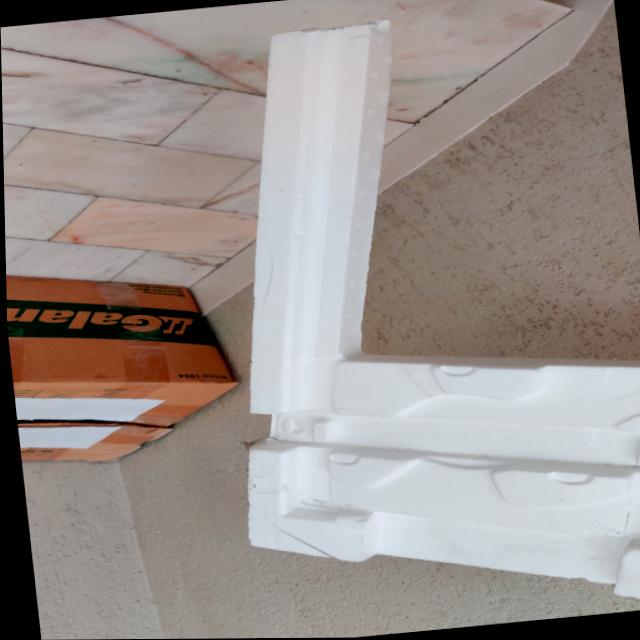Cardboard: (4, 232, 254, 489)
Plastic: (164, 0, 640, 639)
